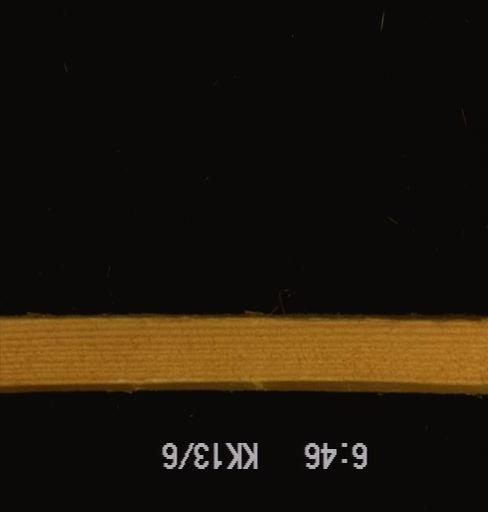wave: (0, 305, 486, 336)
